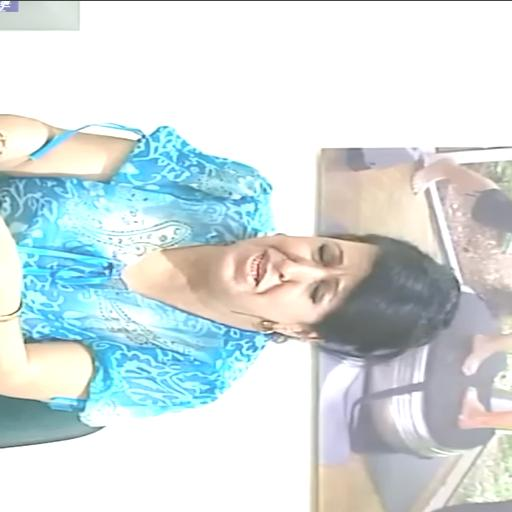jannet: (200, 233, 446, 339)
